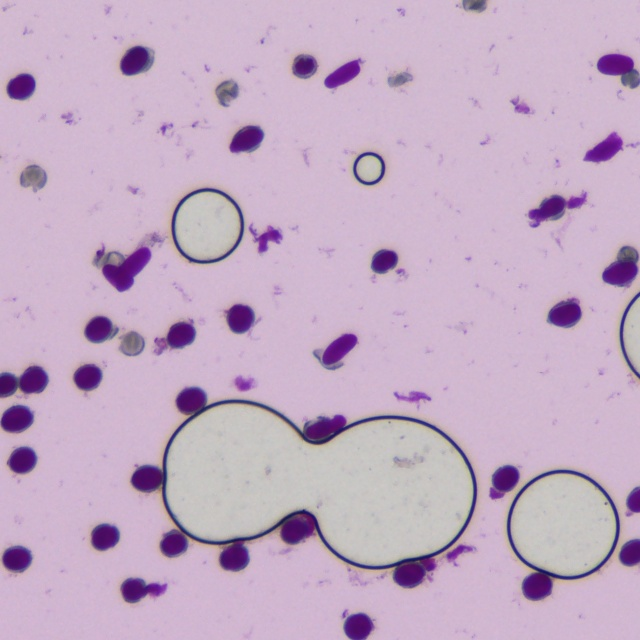intermediate: (293, 55, 316, 77)
non_viable: (19, 164, 46, 190), (215, 80, 238, 106), (121, 332, 143, 354), (622, 71, 638, 86), (462, 0, 486, 10)
viable: (603, 248, 638, 284), (281, 511, 315, 542), (548, 298, 581, 326), (120, 46, 152, 74), (85, 316, 117, 342), (0, 405, 32, 431), (230, 126, 263, 151), (491, 466, 517, 497), (523, 571, 551, 598), (226, 304, 253, 332), (220, 542, 247, 569), (8, 447, 36, 473), (344, 613, 372, 639), (177, 388, 205, 414), (2, 546, 31, 571), (74, 364, 101, 390), (91, 524, 118, 550), (132, 466, 161, 490), (395, 561, 424, 585), (7, 74, 34, 99), (20, 367, 46, 392), (161, 530, 186, 555), (168, 323, 193, 346), (122, 579, 147, 601), (372, 250, 397, 272), (621, 541, 638, 564), (1, 374, 19, 395), (627, 488, 639, 512)
